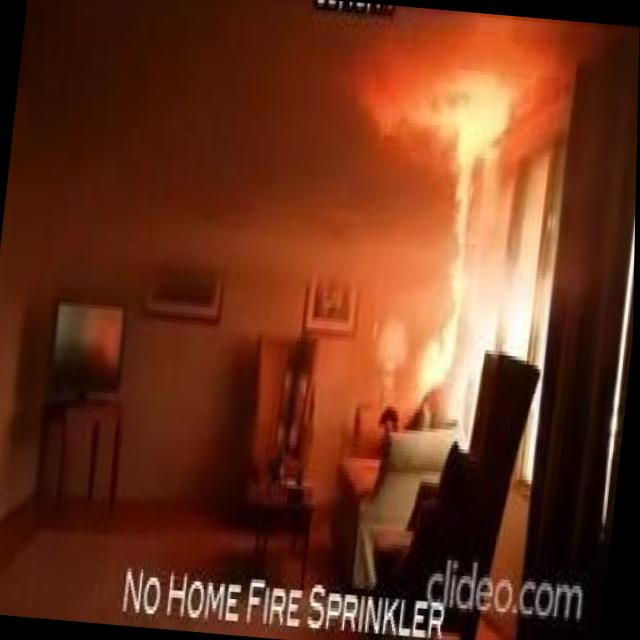fire: (376, 59, 515, 174), (413, 172, 478, 386)
